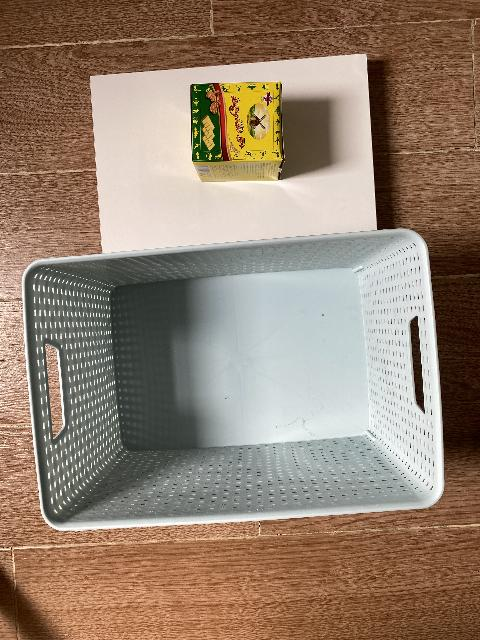cart: (22, 228, 445, 532)
luong_kho: (190, 82, 286, 182)
